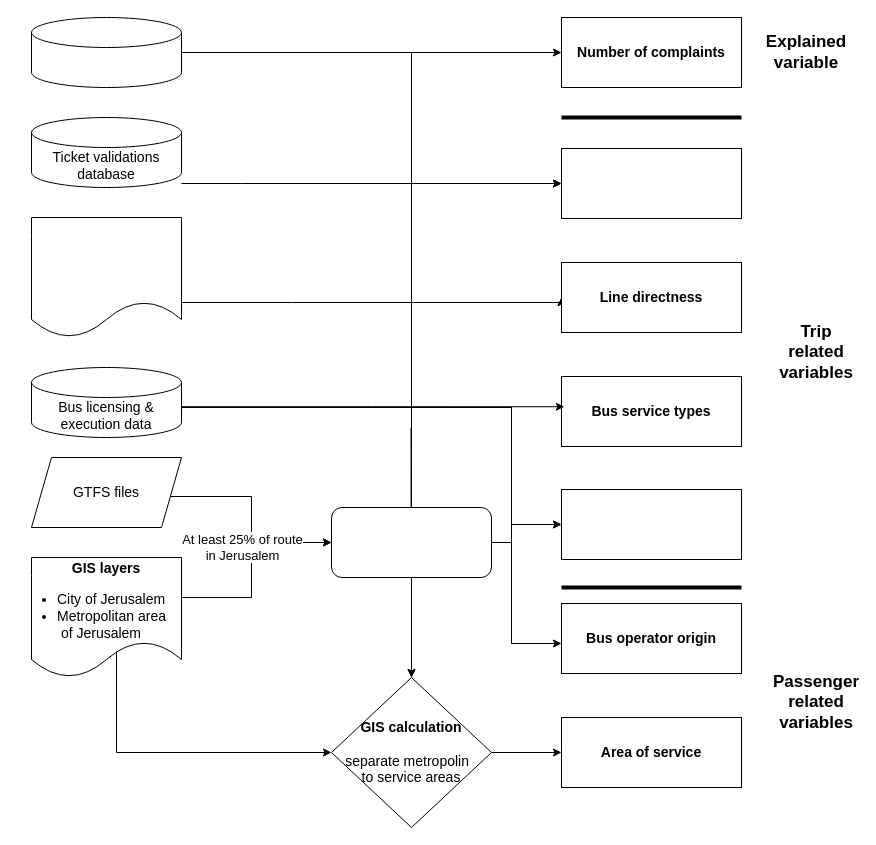
This 876x845 diagram has some shape labels left out. Each missing label, with the centre of its shape:
Open Street Map streets network (OSMnx): point 106,277
Percentage of system detected incidents: point 651,524
Public complaints database: point 106,52
Relevant bus lines: point 411,542
Total number of passengers: point 651,183
